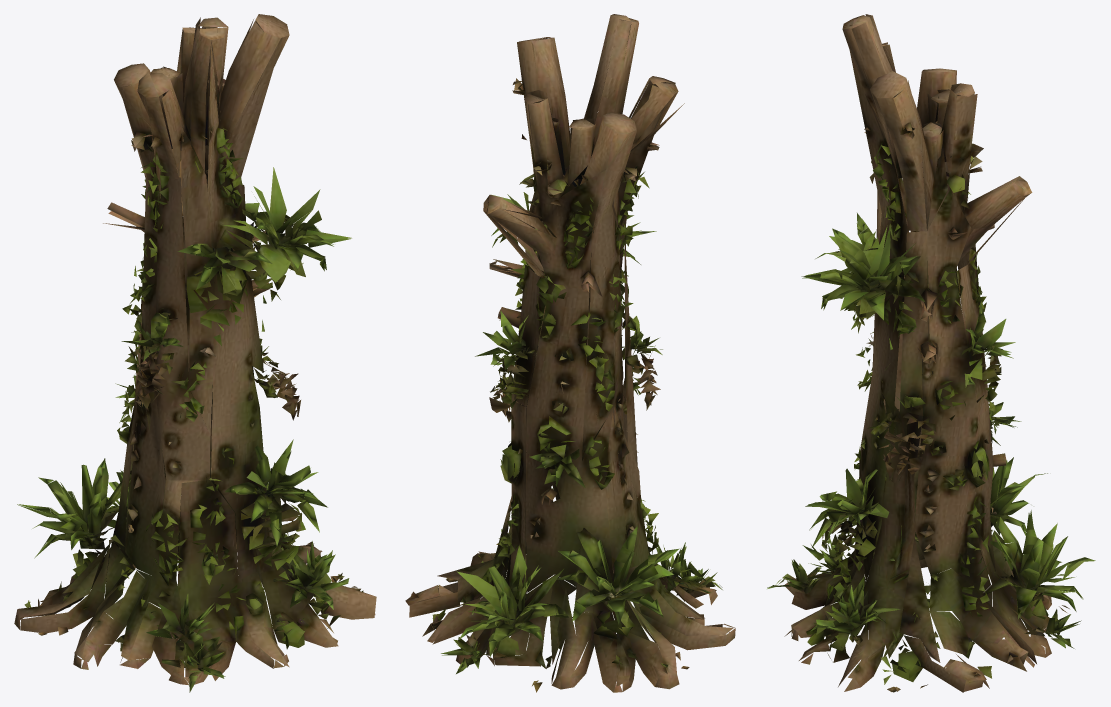
The model's file is jun_mossy_dead_tree_LOD2.glb.
The picture shows the model from 3 angles, left to right: view 1: azimuth 30°, elevation 25°; view 2: azimuth 150°, elevation 25°; view 3: azimuth 270°, elevation 25°; orthographic projection. The views are drawn at different scales.
Visible parts, largest first — view 1: tripo_node_c5806132-b1b8-42ec-9b28-db49bdb041b3; view 2: tripo_node_c5806132-b1b8-42ec-9b28-db49bdb041b3; view 3: tripo_node_c5806132-b1b8-42ec-9b28-db49bdb041b3.
Part boxes in pixels (x1=…): tripo_node_c5806132-b1b8-42ec-9b28-db49bdb041b3: x1=14, y1=14, x2=376, y2=692; tripo_node_c5806132-b1b8-42ec-9b28-db49bdb041b3: x1=405, y1=14, x2=735, y2=692; tripo_node_c5806132-b1b8-42ec-9b28-db49bdb041b3: x1=767, y1=14, x2=1095, y2=692.
Size of the model in its own units: 0.488 by 1 by 0.4983.
1 material, 1 textured.
